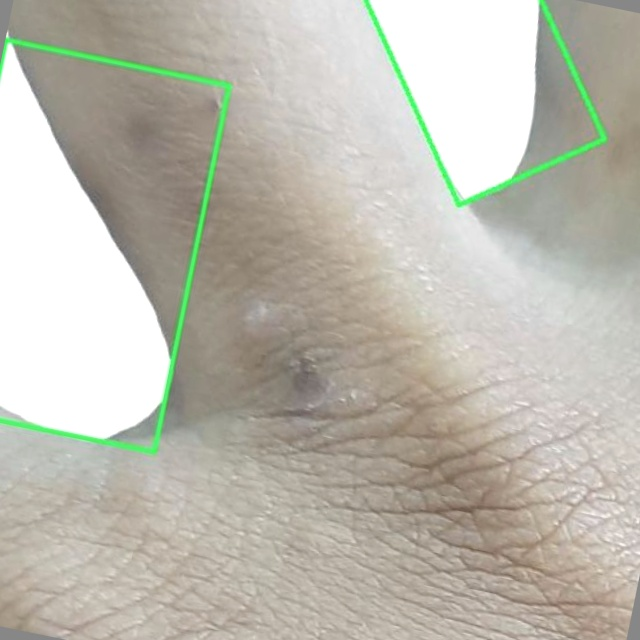Scabies: (0, 39, 229, 452), (366, 0, 605, 205)
